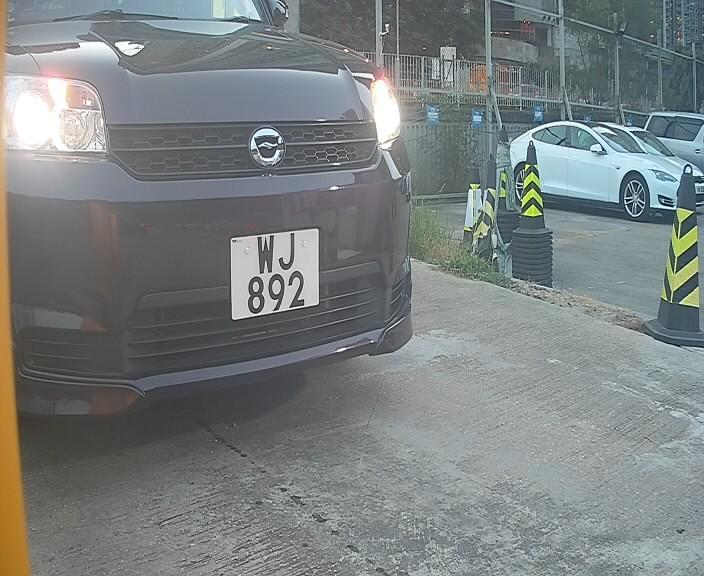License Plate: (221, 219, 327, 330)
